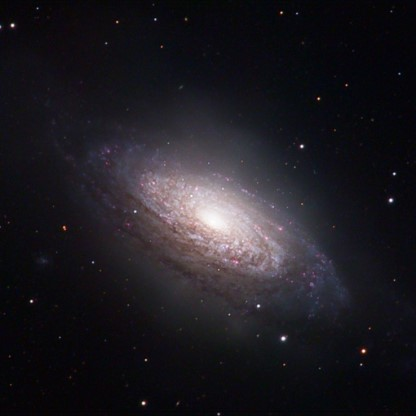NGC 3521: (59, 122, 357, 344)
